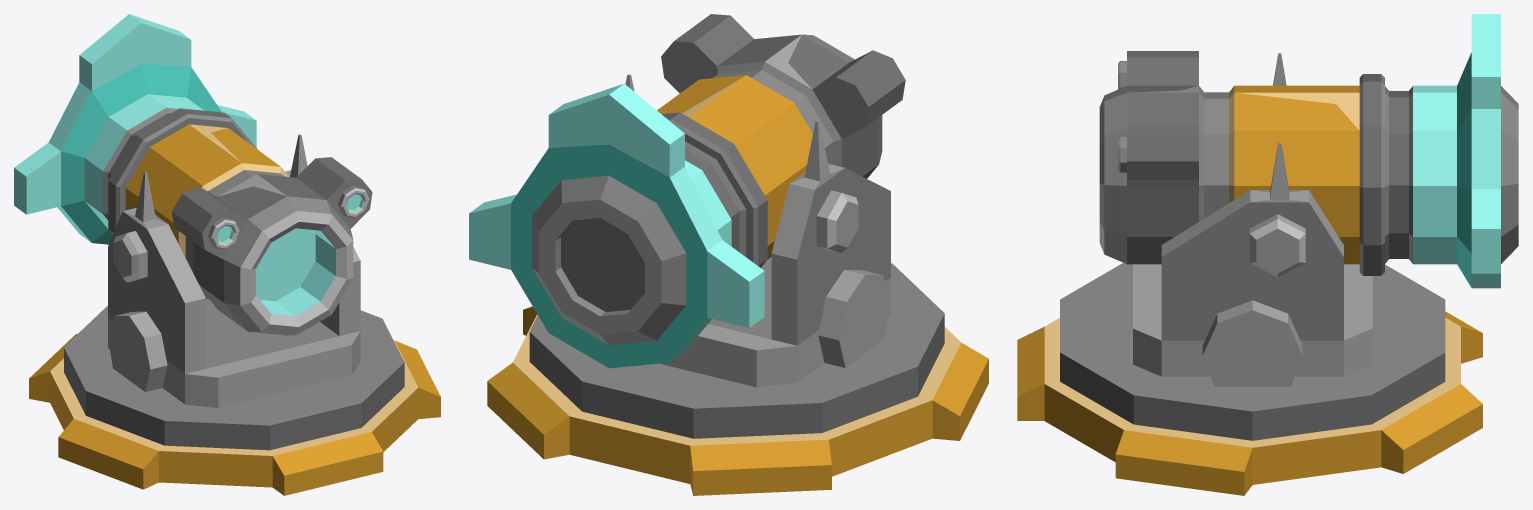
File: tower_plasma_yellow_3.fbx
3 renders of one model, left to right at view 1: azimuth 30°, elevation 25°; view 2: azimuth 150°, elevation 25°; view 3: azimuth 270°, elevation 25°, orthographic. The views are drawn at different scales.
Visible parts, largest first — view 1: top_plasma_yellow_3, tower_plasma_yellow_3; view 2: top_plasma_yellow_3, tower_plasma_yellow_3; view 3: top_plasma_yellow_3, tower_plasma_yellow_3.
Boxes of the visible parts, x1,y1,x2,y2 form: top_plasma_yellow_3: (14,14,372,407); tower_plasma_yellow_3: (29,306,440,495); top_plasma_yellow_3: (469,14,905,387); tower_plasma_yellow_3: (487,263,988,495); top_plasma_yellow_3: (1099,14,1518,386); tower_plasma_yellow_3: (1017,263,1482,495).
Bounding box in the file's own units: 159 × 135 × 162.
